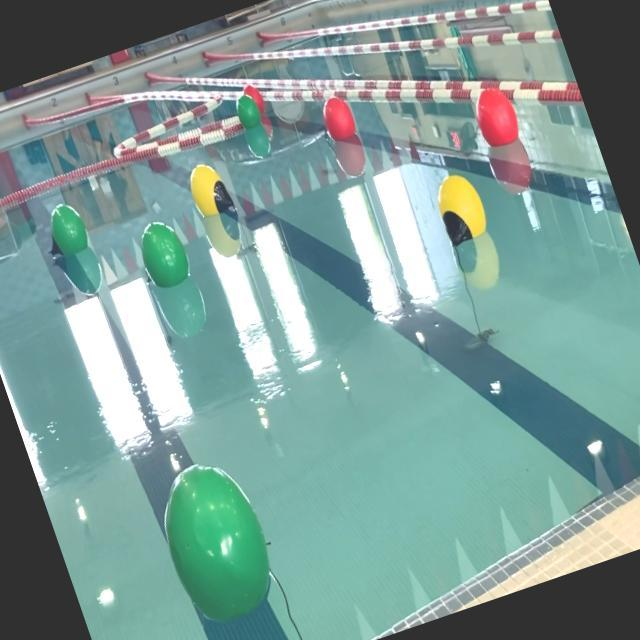buoy: (144, 448, 286, 636), (428, 167, 495, 252), (130, 213, 196, 295), (468, 84, 524, 153), (182, 157, 238, 223), (38, 200, 92, 262), (318, 92, 361, 144), (231, 92, 264, 133), (242, 82, 266, 115)
